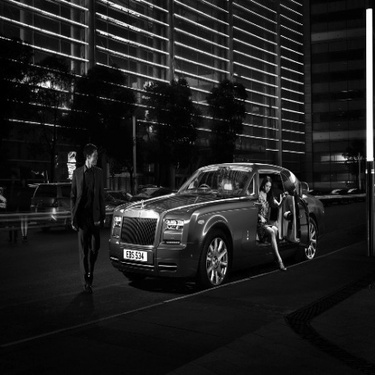car: (107, 157, 325, 293), (17, 178, 130, 233), (125, 188, 176, 204), (90, 187, 136, 204), (321, 181, 346, 197), (347, 181, 363, 198)
